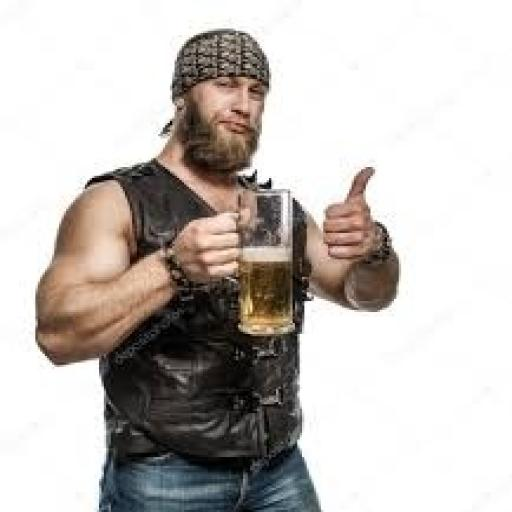drinking: (232, 187, 298, 336)
